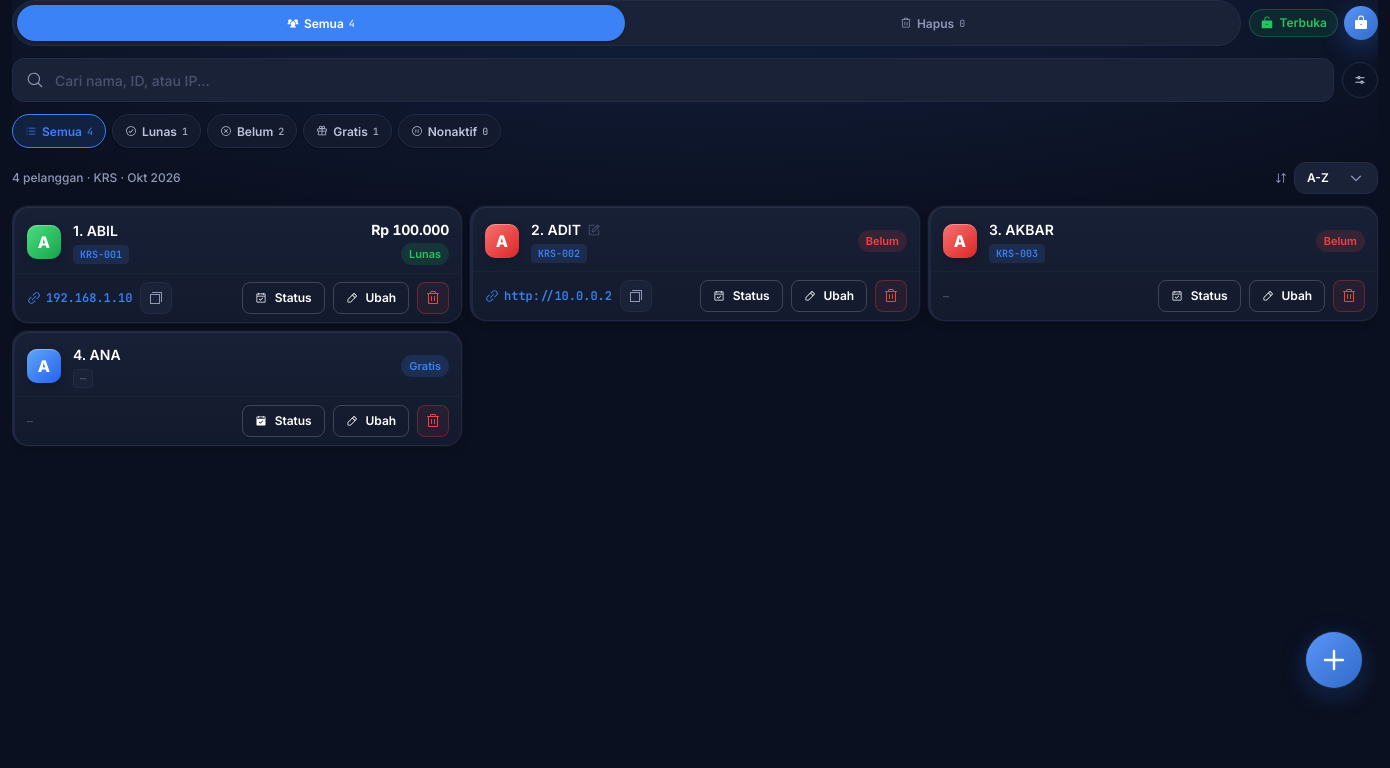
Test: Member — kunci, zona, tab › kunci: status + tombol aksi mengikuti pola Header; terkunci menyembunyikan tambah dan semua aksi
Expected: the text "Terbuka" is shown, [1249,9,1338,37]
Expected: the button named "Tambah Member" is shown, [1306,632,1362,688]
What coordinates should you click on to do the following:
click the button named "Daftar member sedang terbuka. Ketuk untuk mengunci."
I would click on:
 (1361, 23)
Its box is [1344,6,1378,40].
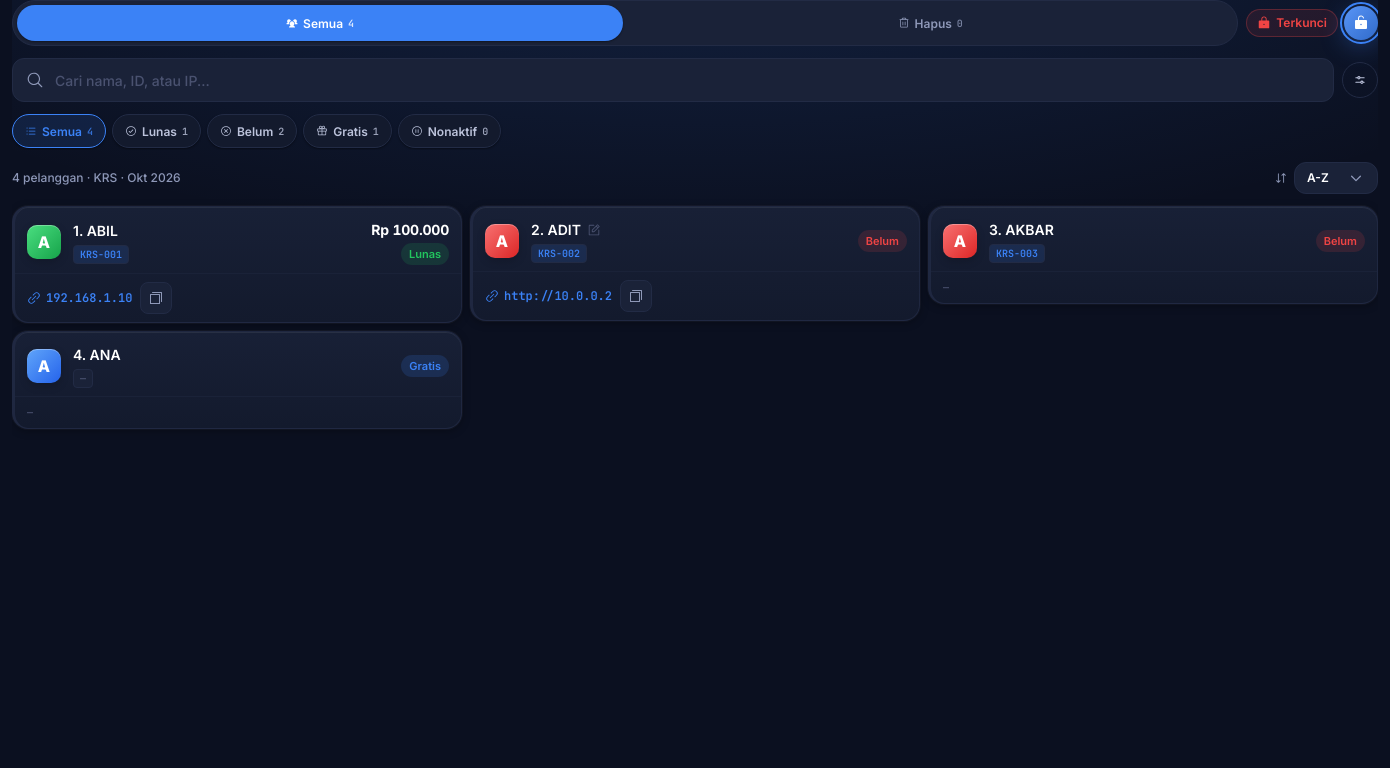
Result: the text "Terkunci" is shown at [1246,9,1338,37]
